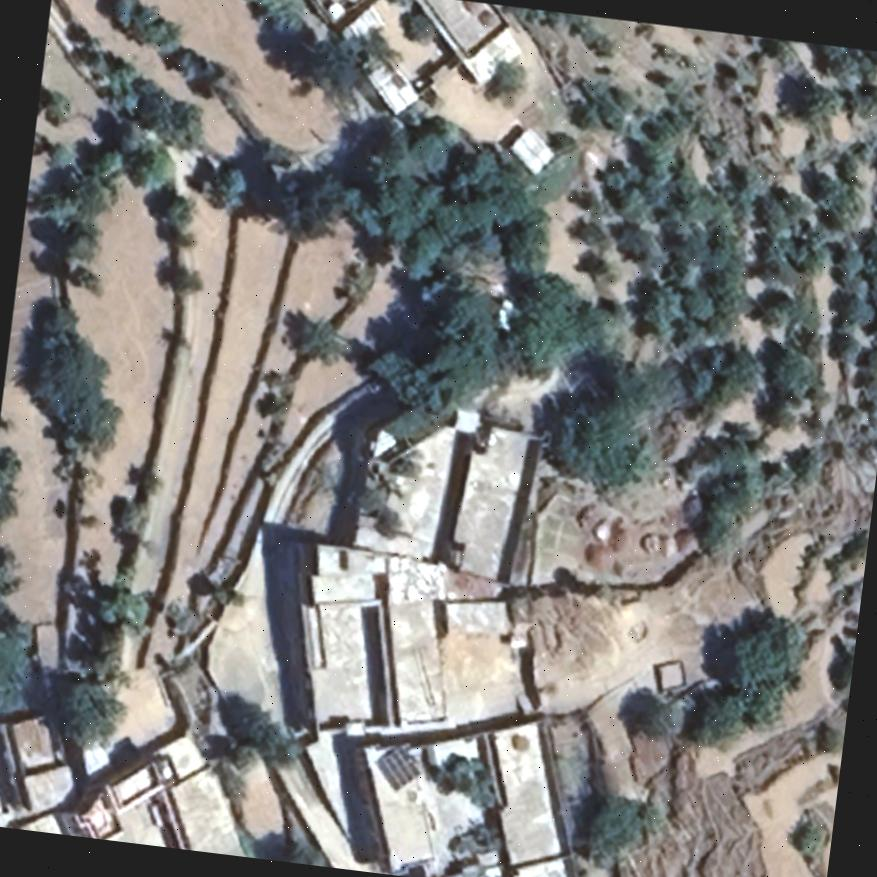Solarpanel: (373, 741, 424, 793)
